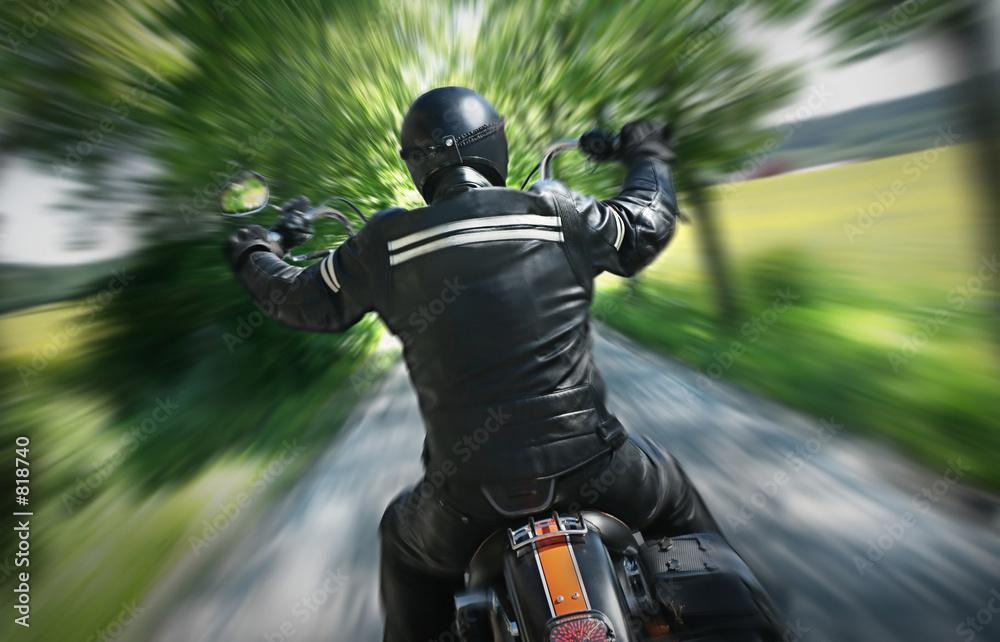helmet: (398, 85, 509, 207)
